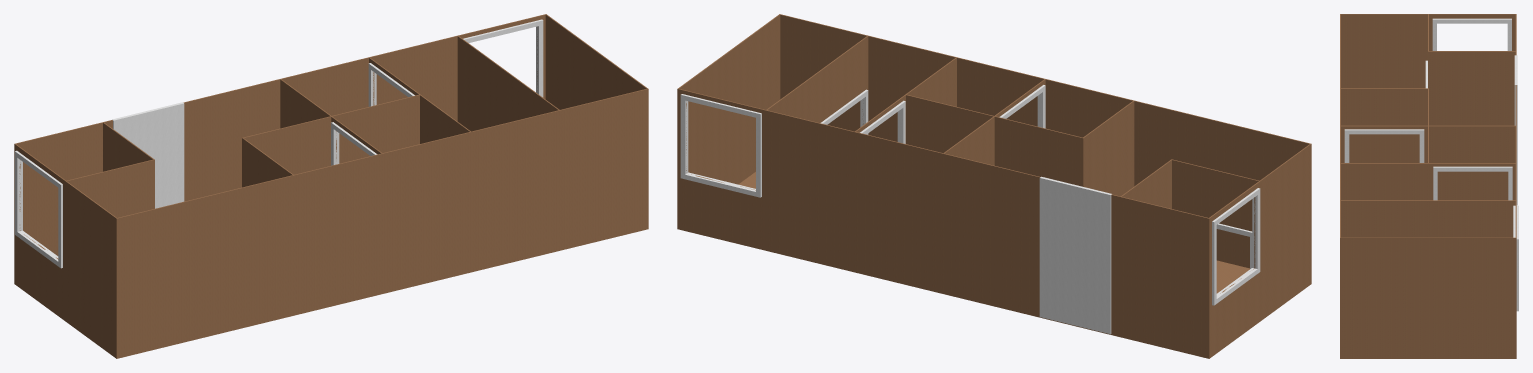
3 views of the same model, side by side, from view 1: azimuth 30°, elevation 25°; view 2: azimuth 150°, elevation 25°; view 3: azimuth 270°, elevation 25° (orthographic). The views are drawn at different scales.
Visible parts, largest first — view 1: cluttered_environment_walls, cluttered_environment_windows; view 2: cluttered_environment_walls, cluttered_environment_windows; view 3: cluttered_environment_walls, cluttered_environment_windows.
Boxes of the visible parts, x1,y1,x2,y2 form: cluttered_environment_walls: (14, 14, 648, 358); cluttered_environment_windows: (15, 19, 543, 268); cluttered_environment_walls: (677, 14, 1311, 358); cluttered_environment_windows: (680, 85, 1260, 334); cluttered_environment_walls: (1340, 14, 1516, 358); cluttered_environment_windows: (1344, 18, 1518, 311).
Size of the model in its own units: 6.03 by 2.02 by 1.51.
